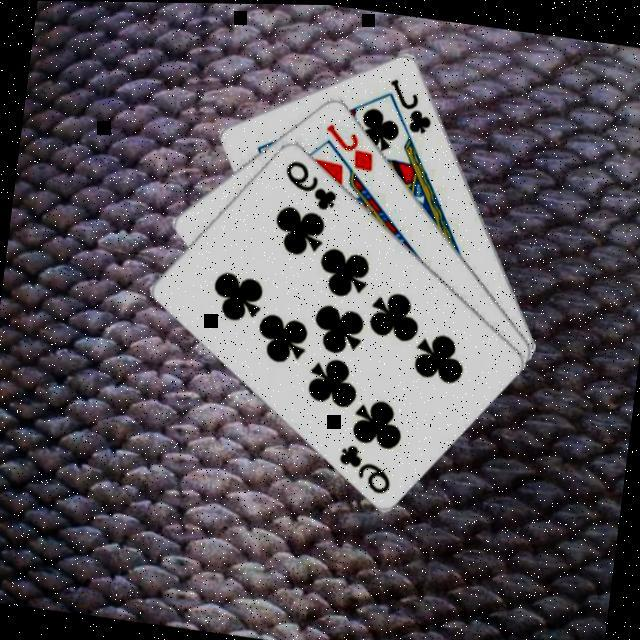9C: (278, 150, 342, 210), (330, 436, 396, 494)
JC: (380, 70, 439, 134)
JD: (317, 115, 380, 172)
